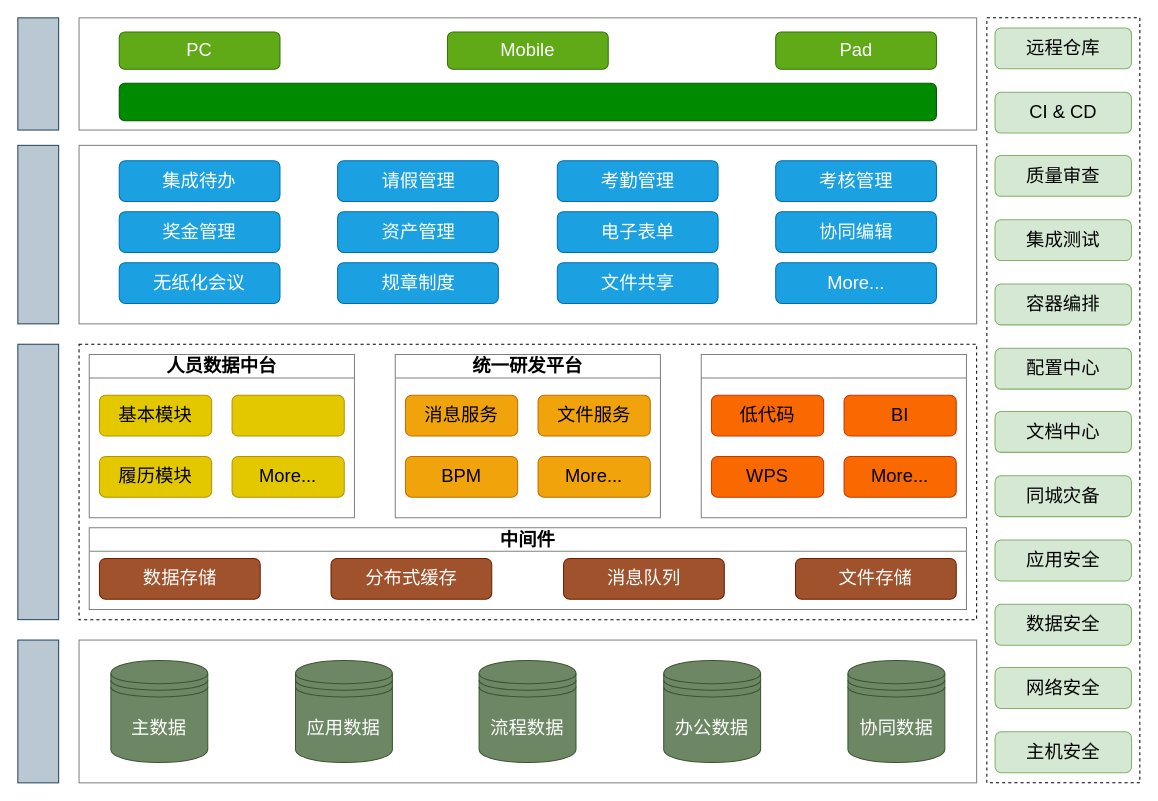
This 1158x801 diagram has some shape labels left out. The centre of each missing label's shape, as x and y in pixels:
"依赖层" goes at (x=38, y=481).
"工作模块" goes at (x=287, y=415).
"应用层" goes at (x=38, y=234).
"数据层" goes at (x=38, y=711).
"用户层" goes at (x=38, y=73).
"第三方平台" goes at (x=833, y=435).
"集成视图(自研应用 / 低代码应用 / BI应用等)" goes at (x=527, y=101).
